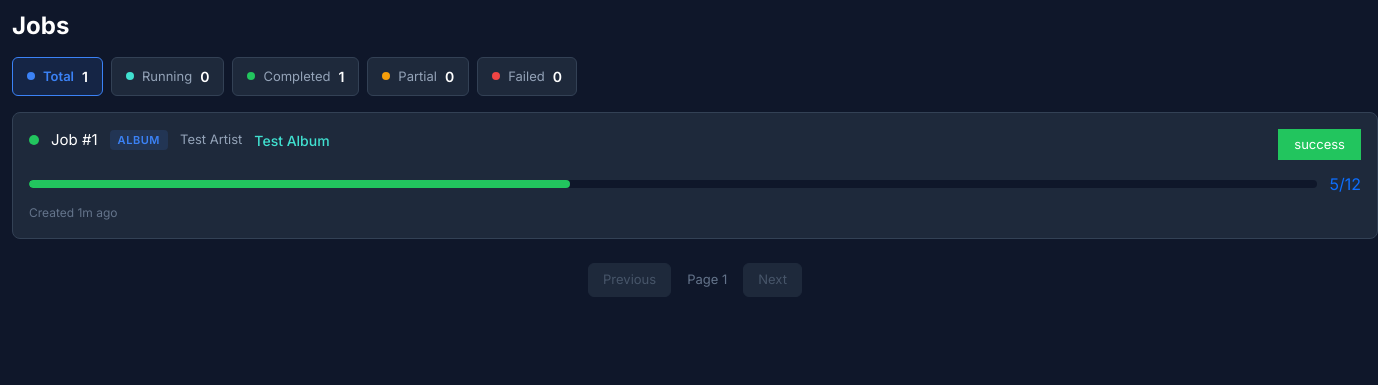
Scenario: JobsPage › shows empty state when filter matches nothing
expect the text "Job #1" is shown: met, box x1=51 y1=129 x2=98 y2=151
Click the text "Failed".
click(526, 76)  # box x1=508 y1=66 x2=545 y2=86
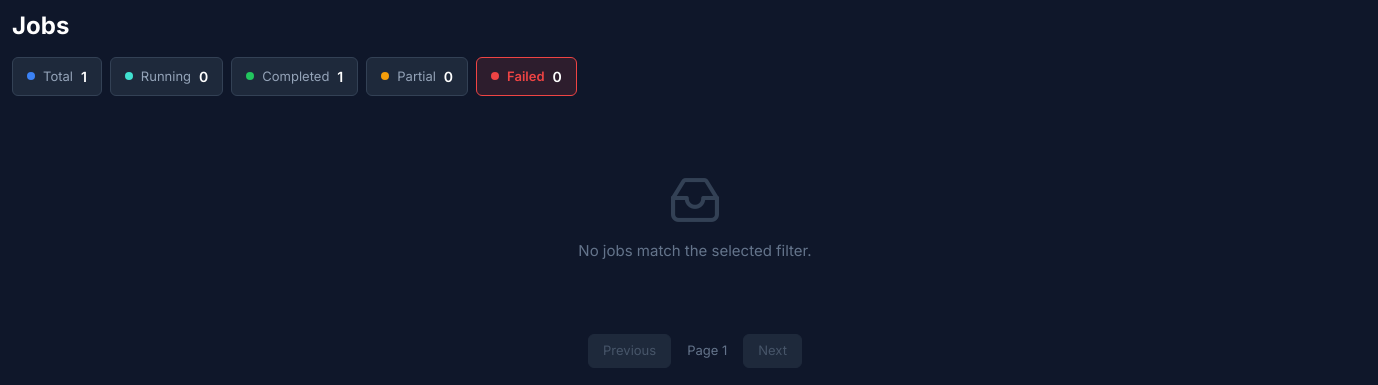
expect the text "No jobs match the selected filter." is shown: met, box x1=578 y1=240 x2=812 y2=262
